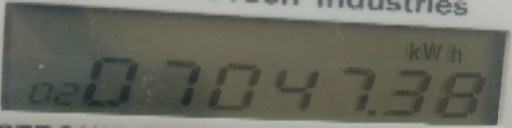0: (80, 54, 141, 117), (204, 59, 267, 117)
3: (380, 62, 429, 119)
4: (277, 69, 323, 113)
7: (157, 51, 203, 113), (338, 66, 377, 115)
8: (435, 70, 485, 119)
d: (367, 107, 378, 118)
